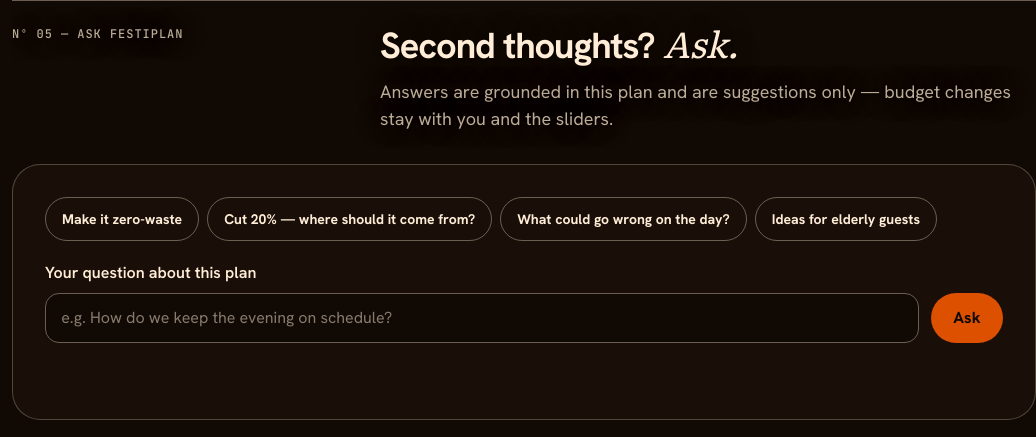
AskSection › explains a cut-off stream instead of hanging
In the field labelled "Your question about this plan": (482, 318) [45, 294, 919, 343], type "Rain plan?"
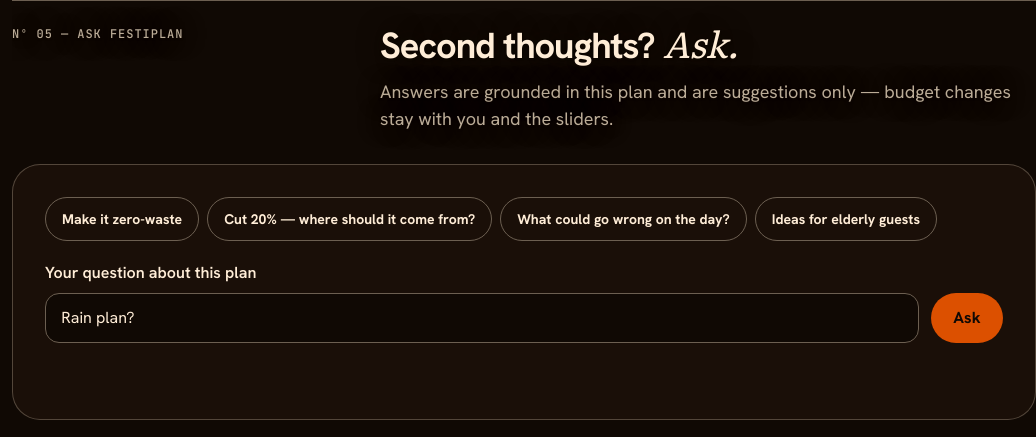
Click the button "Ask": click(967, 318) [931, 294, 1003, 343]
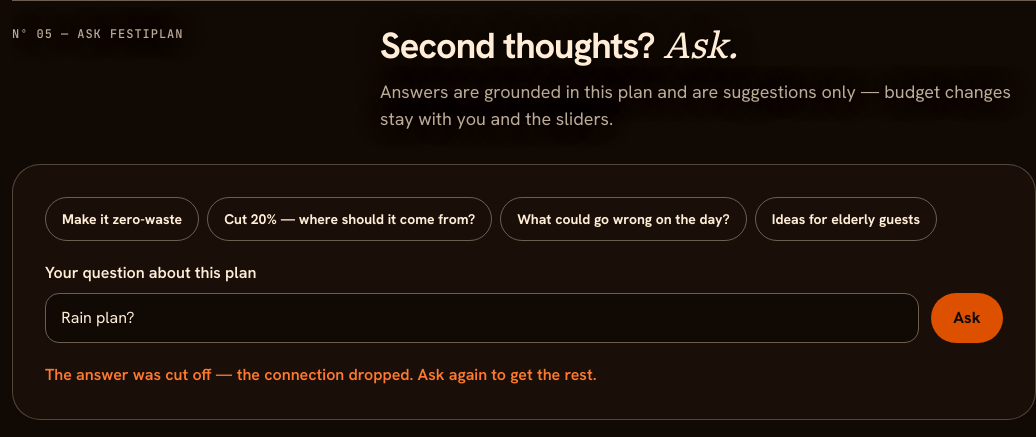
Expected: the text "The answer was cut off — the connection dropped. Ask again to get the rest." is shown, [45, 364, 596, 385]
